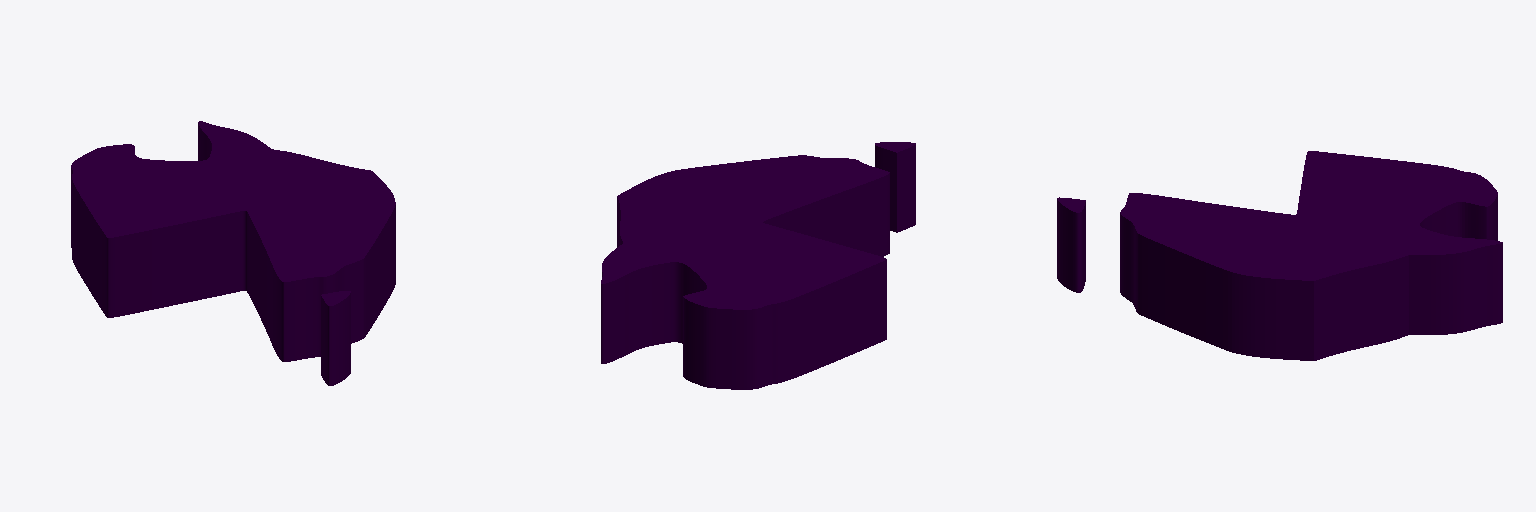
The model's file is Oceania_01.obj.
3 views of the same model, side by side, from view 1: azimuth 30°, elevation 25°; view 2: azimuth 150°, elevation 25°; view 3: azimuth 270°, elevation 25° (orthographic).
Visible parts, largest first — view 1: Oceania_01_path4286; view 2: Oceania_01_path4286; view 3: Oceania_01_path4286.
Part boxes in pixels (bbox=[...]): Oceania_01_path4286: bbox=[71, 121, 395, 385]; Oceania_01_path4286: bbox=[601, 142, 915, 389]; Oceania_01_path4286: bbox=[1057, 151, 1502, 360].
Bounding box in the file's own units: 0.3494 × 0.1 × 0.5035.